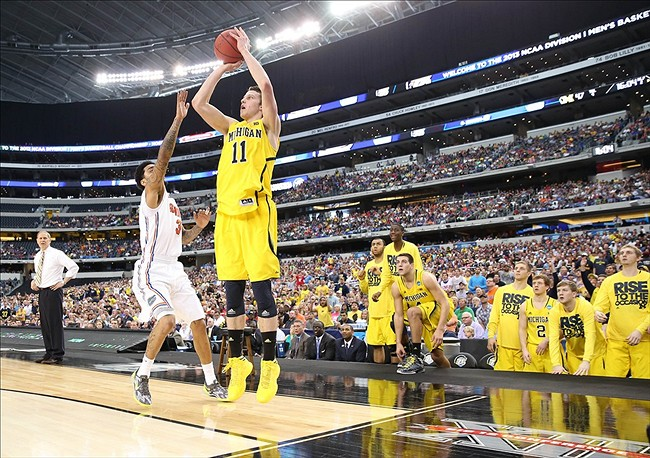basketball: (204, 30, 253, 66)
basketball player: (192, 60, 290, 409), (118, 155, 218, 407), (381, 253, 456, 380)
